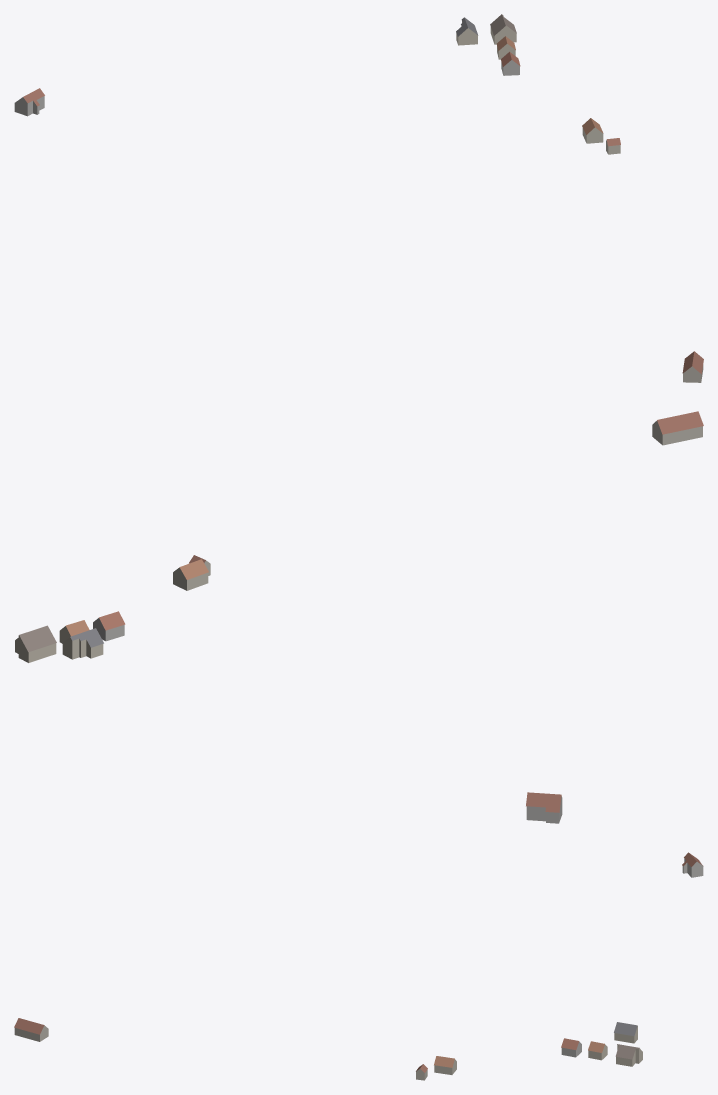
The picture shows the model from 3 angles, top to bottom: view 1: azimuth 30°, elevation 25°; view 2: azimuth 150°, elevation 25°; view 3: azimuth 270°, elevation 25°; orthographic projection. The views are drawn at different scales.
Visible parts, largest first — view 1: buildings; view 2: buildings; view 3: buildings.
Boxes of the visible parts, <box> form: buildings: <box>14,14,703,382</box>; buildings: <box>15,411,703,823</box>; buildings: <box>14,852,703,1080</box>.
Size of the model in its own units: 324 by 47.91 by 485.
